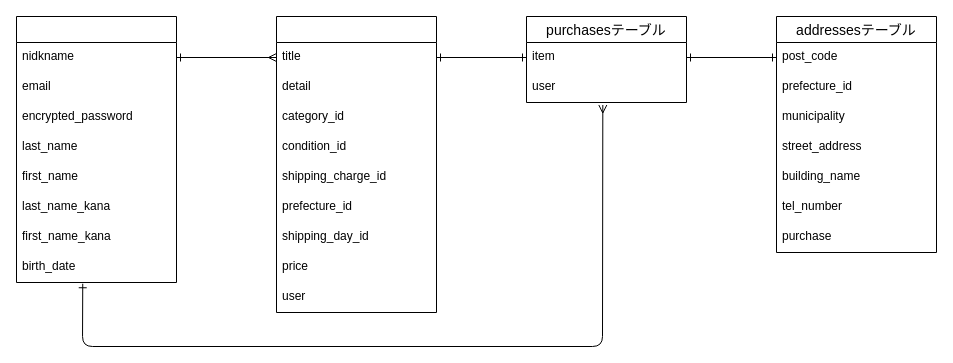
This 953x363 diagram has some shape labels left out. Here are the shapes that lost their labels. From the top down, the box of each, then its label:
(16, 16, 176, 282): userテーブル
(276, 16, 436, 312): itemsテーブル
